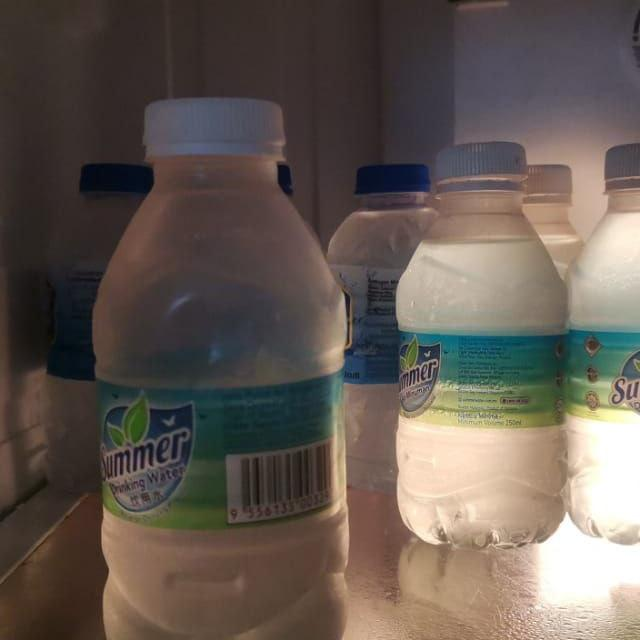plastic: (82, 87, 350, 640), (392, 139, 572, 549), (562, 140, 640, 547)
